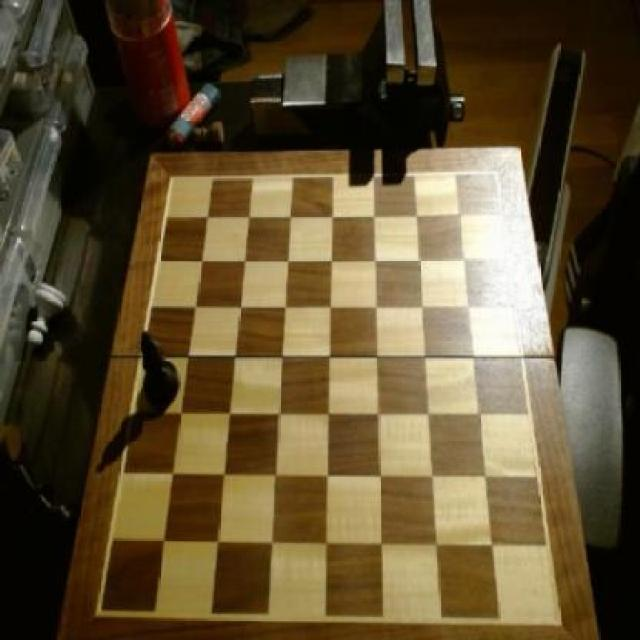bishop: (137, 329, 182, 417)
